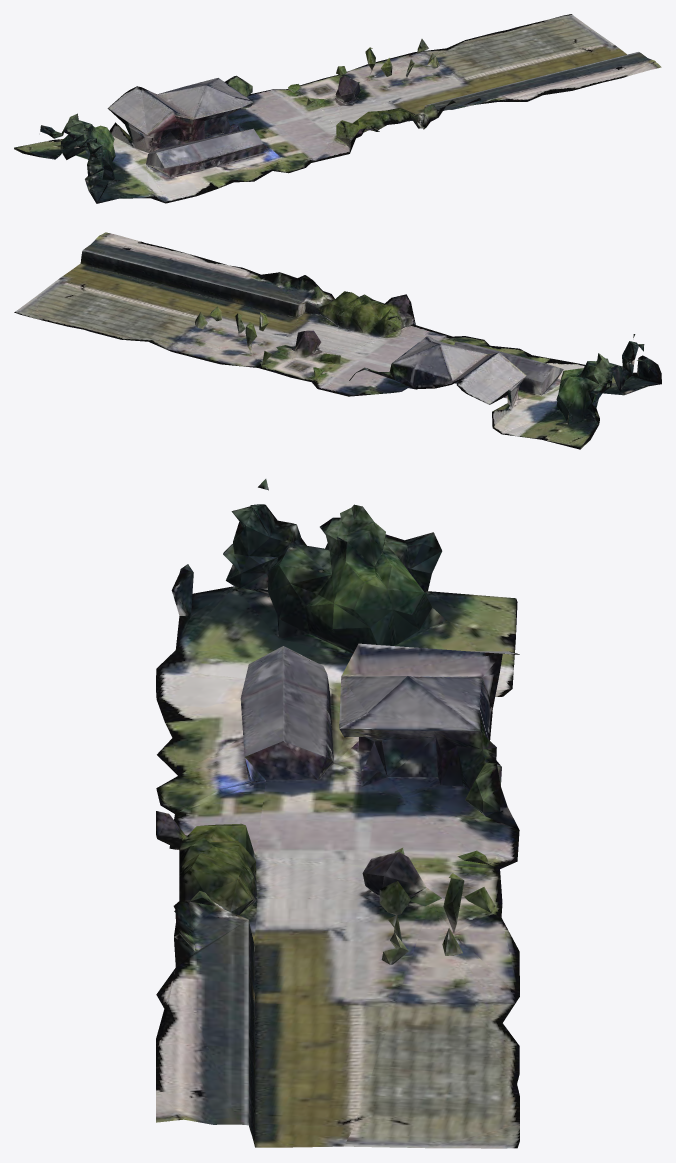
3 renders of one model, top to bottom at view 1: azimuth 30°, elevation 25°; view 2: azimuth 150°, elevation 25°; view 3: azimuth 270°, elevation 25°, orthographic. The views are drawn at different scales.
Bounding box in the file's own units: 200 × 24.34 × 56.53.
1 material, 1 textured.
